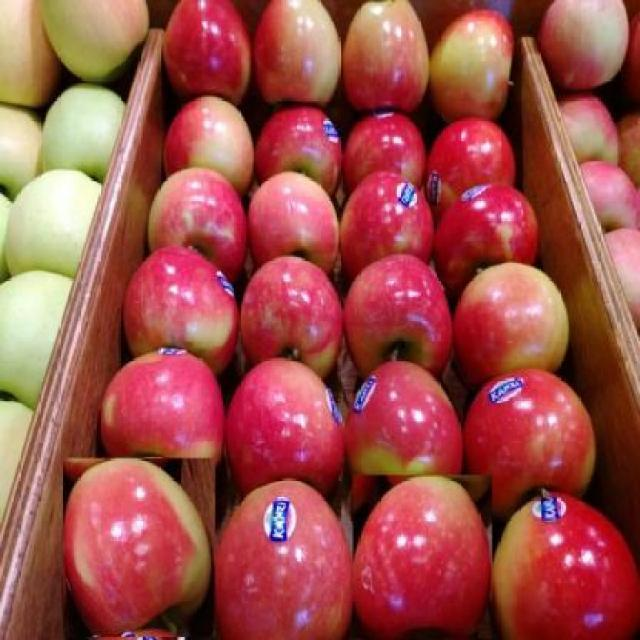Apple: (62, 458, 216, 638), (353, 475, 492, 640), (222, 474, 352, 638), (496, 496, 640, 640), (95, 344, 228, 474), (468, 372, 601, 496), (219, 360, 345, 490), (342, 366, 464, 479), (462, 262, 575, 376), (346, 257, 456, 373), (119, 248, 238, 348), (242, 255, 342, 366), (239, 170, 346, 266), (438, 180, 542, 278), (246, 96, 344, 192), (141, 171, 244, 261), (252, 0, 344, 100), (161, 96, 256, 192), (534, 0, 634, 91), (36, 0, 147, 81), (434, 5, 516, 112), (343, 0, 428, 103), (164, 0, 252, 93), (342, 176, 436, 260), (428, 119, 522, 200), (0, 0, 62, 112), (348, 108, 429, 193), (540, 94, 622, 165), (577, 162, 640, 232)
